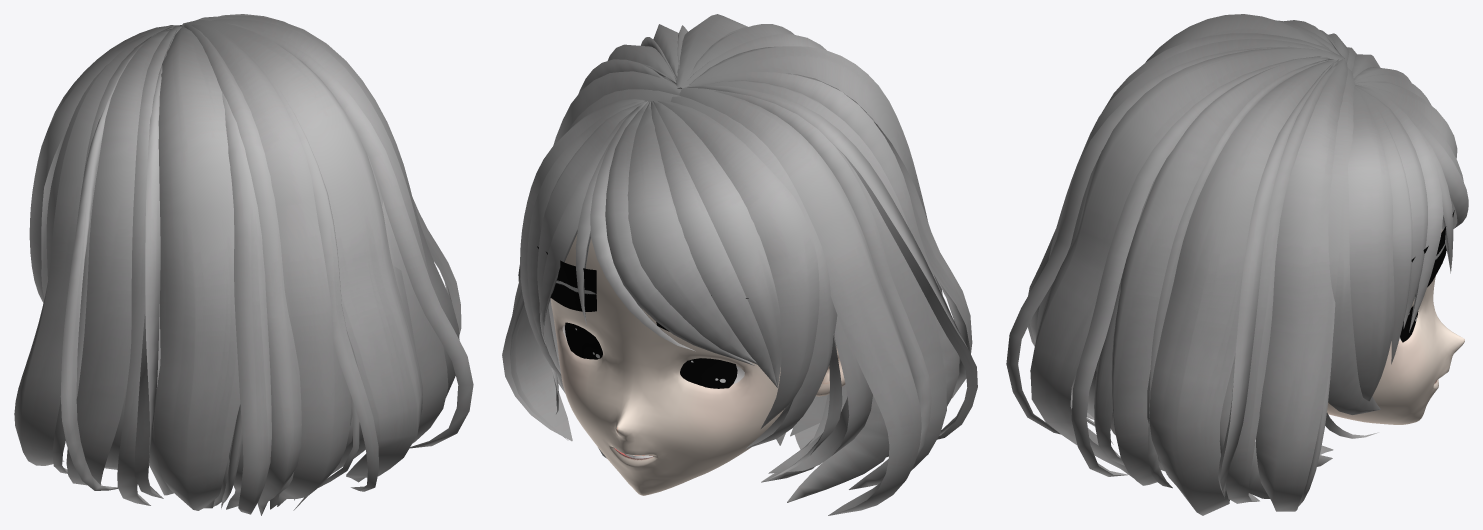
File: VRoid Face.fbx
3 views of the same model, side by side, from view 1: azimuth 30°, elevation 25°; view 2: azimuth 150°, elevation 25°; view 3: azimuth 270°, elevation 25° (orthographic). The views are drawn at different scales.
Visible parts, largest first — view 1: Hair001; view 2: Hair001, Face; view 3: Hair001, Face.
Boxes of the visible parts, x1=… form: Hair001: x1=14, y1=14, x2=473, y2=515; Hair001: x1=502, y1=14, x2=977, y2=515; Face: x1=537, y1=234, x2=845, y2=495; Hair001: x1=1006, y1=14, x2=1468, y2=515; Face: x1=1327, y1=210, x2=1464, y2=424.
Bounding box in the file's own units: 30.18 × 29.69 × 29.12.
Materials: 7 (7 with a texture image).
